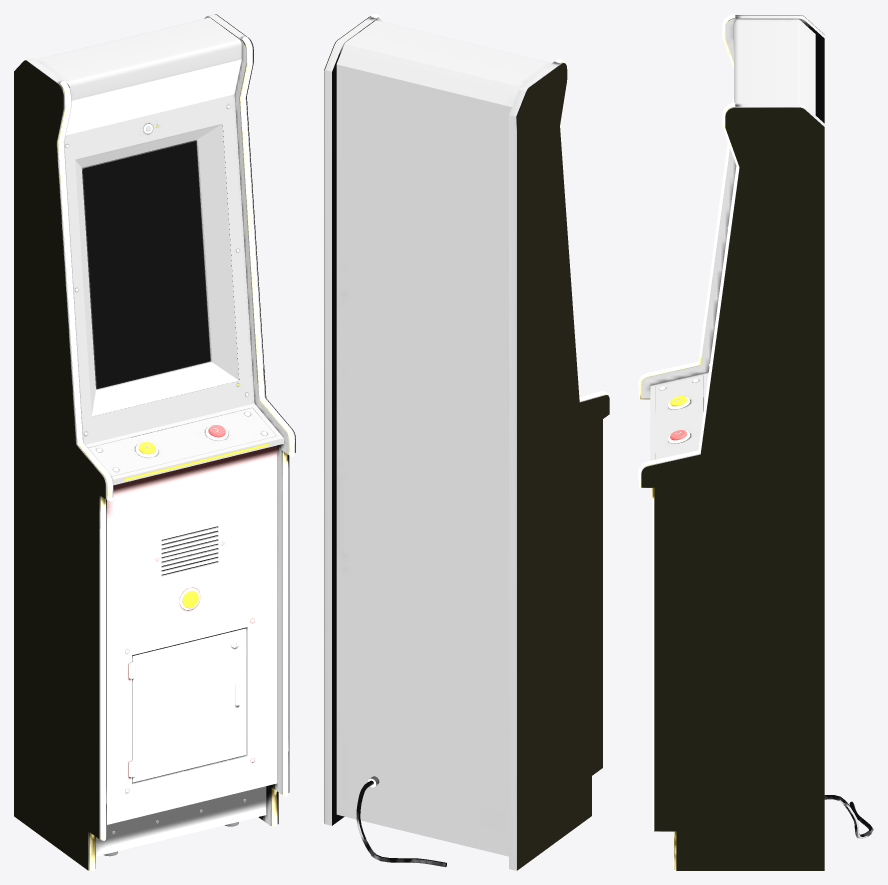
The model's file is mach-mina-v2.glb.
The picture shows the model from 3 angles, left to right: view 1: azimuth 30°, elevation 25°; view 2: azimuth 150°, elevation 25°; view 3: azimuth 270°, elevation 25°; orthographic projection.
Parts seen in each view (by area): view 1: body, side_art_l, screen, glass, trim, metal, side_art_r; view 2: body, side_art_l, side_art_r, cable; view 3: side_art_r, body, trim, cable.
Part boxes in pixels (left/top/right/bottom): body: left=26, top=14, right=295, bottom=870; side_art_l: left=14, top=60, right=105, bottom=870; screen: left=83, top=141, right=210, bottom=388; glass: left=83, top=141, right=211, bottom=389; trim: left=58, top=36, right=294, bottom=870; metal: left=66, top=105, right=266, bottom=856; side_art_r: left=215, top=14, right=295, bottom=823; body: left=324, top=16, right=605, bottom=870; side_art_l: left=517, top=63, right=609, bottom=870; side_art_r: left=324, top=16, right=370, bottom=823; cable: left=356, top=780, right=446, bottom=867; side_art_r: left=641, top=107, right=824, bottom=870; body: left=641, top=15, right=824, bottom=471; trim: left=638, top=14, right=739, bottom=869; cable: left=824, top=795, right=873, bottom=838.
Size of the model in its own units: 0.503 by 1.94 by 0.5397.
Materials: 19 (6 with a texture image).
